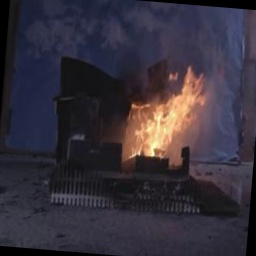fire: (121, 57, 208, 167)
